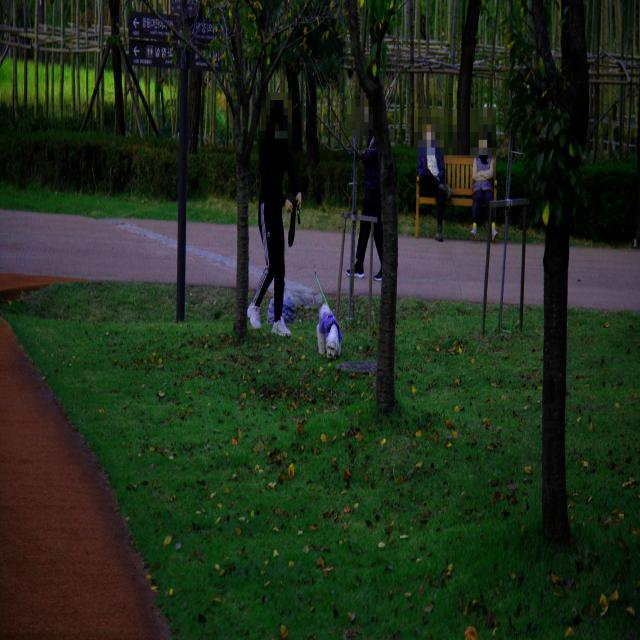Leashed_Dog: (247, 192, 342, 360)
